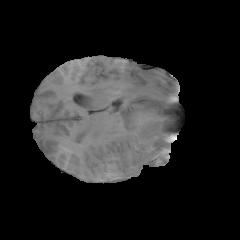glioma: (118, 102, 170, 175)
